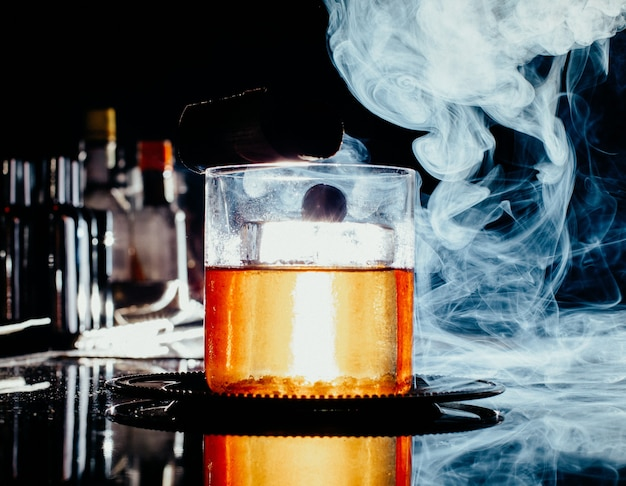alcohol: (198, 160, 424, 407)
